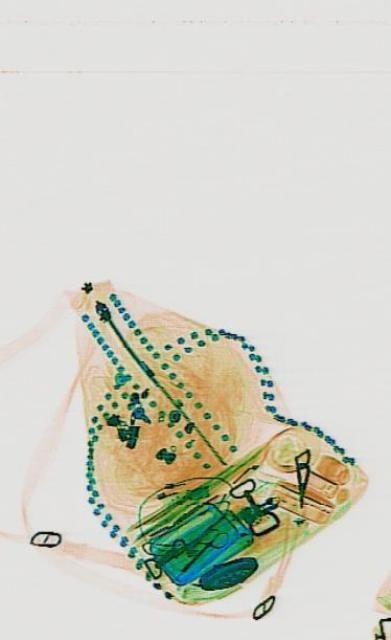Scissors: (174, 510, 229, 584)
